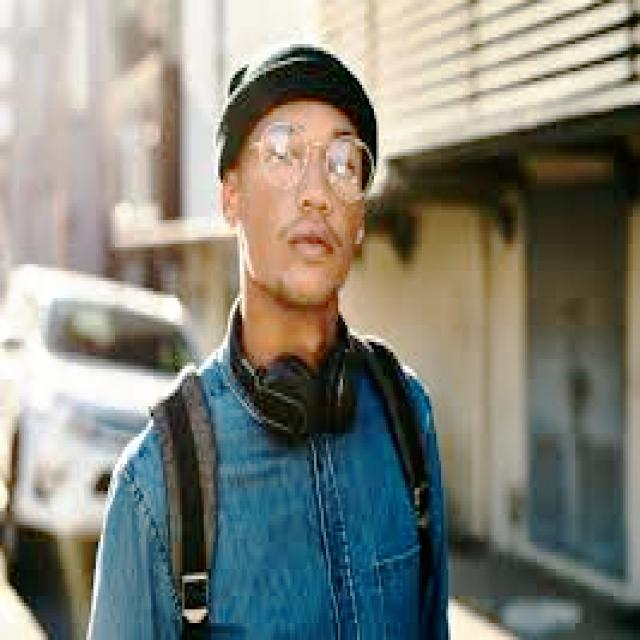TOPI: (213, 27, 381, 186)
